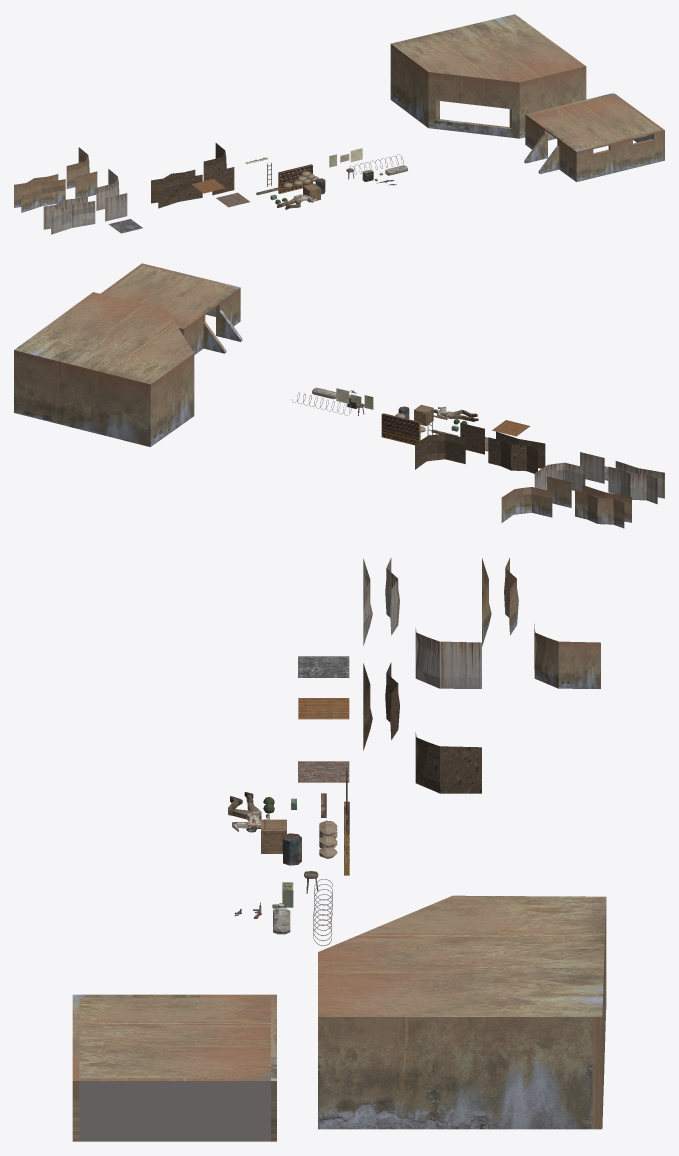
Rendered from Trench 1.fbx.
The picture shows the model from 3 angles, top to bottom: view 1: azimuth 30°, elevation 25°; view 2: azimuth 150°, elevation 25°; view 3: azimuth 270°, elevation 25°; orthographic projection. The views are drawn at different scales.
Visible parts, largest first — view 1: Bunker2, Bunker1, TrenchWall2.001, TrenchWall2.002, TrenchWall2, Planks, TrenchWall1.001, TrenchWallCurved.002, TrenchWall1.002, TrenchWallCurved.001, TrenchWallCurved, TrenchWall1 (+3 smaller); view 2: Bunker2, Bunker1, TrenchWallCurved.002, TrenchWallCurved, TrenchWall3.002, TrenchWall3, TrenchWall3.001, TrenchWallCurved.001, Planks, TrenchWall1.002, TrenchWall1, TrenchWall1.001 (+3 smaller); view 3: Bunker2, Bunker1, TrenchWallCurved, TrenchWallCurved.002, TrenchWallCurved.001, TrenchGround.001, MetalRoof, TrenchGround, HeDead, Crate.
Boxes of the visible parts, <box> form: Bunker2: <box>390,14,586,138</box>; Bunker1: <box>524,93,664,181</box>; TrenchWall2.001: <box>51,201,95,234</box>; TrenchWall2.002: <box>21,179,65,212</box>; TrenchWall2: <box>158,174,202,208</box>; Planks: <box>278,164,312,193</box>; TrenchWall1.001: <box>105,193,127,221</box>; TrenchWallCurved.002: <box>66,147,89,188</box>; TrenchWall1.002: <box>75,171,97,198</box>; TrenchWallCurved.001: <box>96,169,119,210</box>; TrenchWallCurved: <box>203,143,226,180</box>; TrenchWall1: <box>212,167,234,195</box>; Bunker2: <box>14,292,194,446</box>; Bunker1: <box>100,263,242,354</box>; TrenchWallCurved.002: <box>501,487,552,522</box>; TrenchWallCurved: <box>415,433,465,469</box>; TrenchWall3.002: <box>575,491,624,528</box>; TrenchWall3: <box>488,437,537,473</box>; TrenchWall3.001: <box>608,466,657,504</box>; TrenchWallCurved.001: <box>534,462,585,492</box>; Planks: <box>381,413,420,445</box>; TrenchWall1.002: <box>547,476,571,507</box>; TrenchWall1: <box>460,423,484,454</box>; TrenchWall1.001: <box>580,452,604,483</box>; Bunker2: <box>318,895,606,1129</box>; Bunker1: <box>72,994,276,1141</box>; TrenchWallCurved: <box>415,732,481,793</box>; TrenchWallCurved.002: <box>534,624,600,688</box>; TrenchWallCurved.001: <box>415,628,481,688</box>; TrenchGround.001: <box>298,656,349,677</box>; MetalRoof: <box>298,698,349,719</box>; TrenchGround: <box>298,761,349,782</box>; HeDead: <box>228,792,269,832</box>; Crate: <box>261,819,286,853</box>.
Bounding box in the file's own units: 4892 × 512 × 2086.
Materials: 28 (28 with a texture image).
